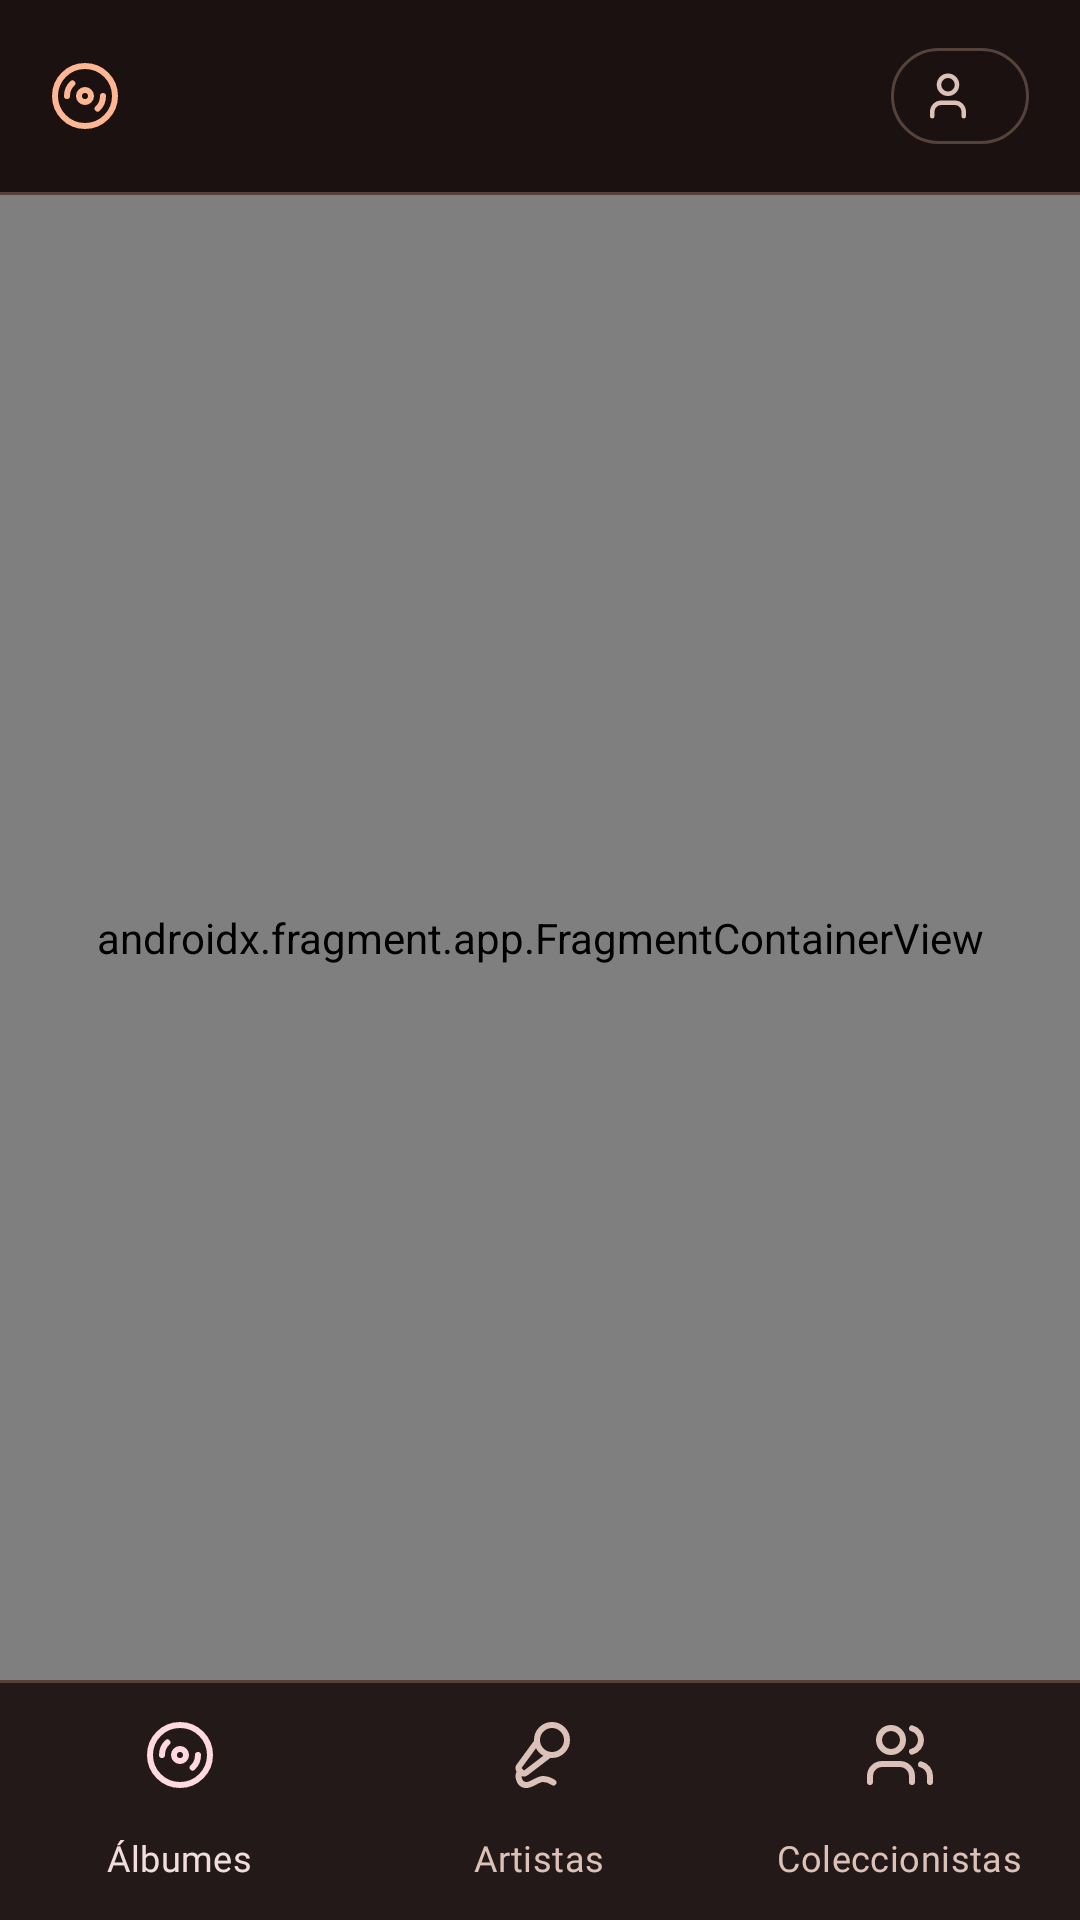

Locate icon controls on the screen. Image size 1080w x 1920h, boxes as region(x1, y1, x2, y2).
album: region(52, 63, 118, 129)
